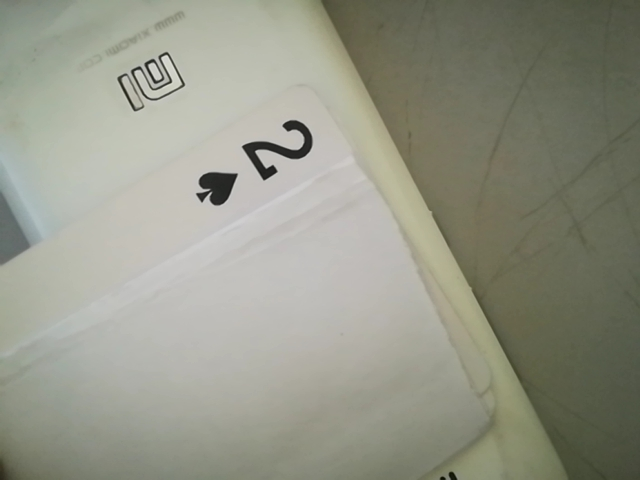ht 2: (186, 110, 342, 212)
